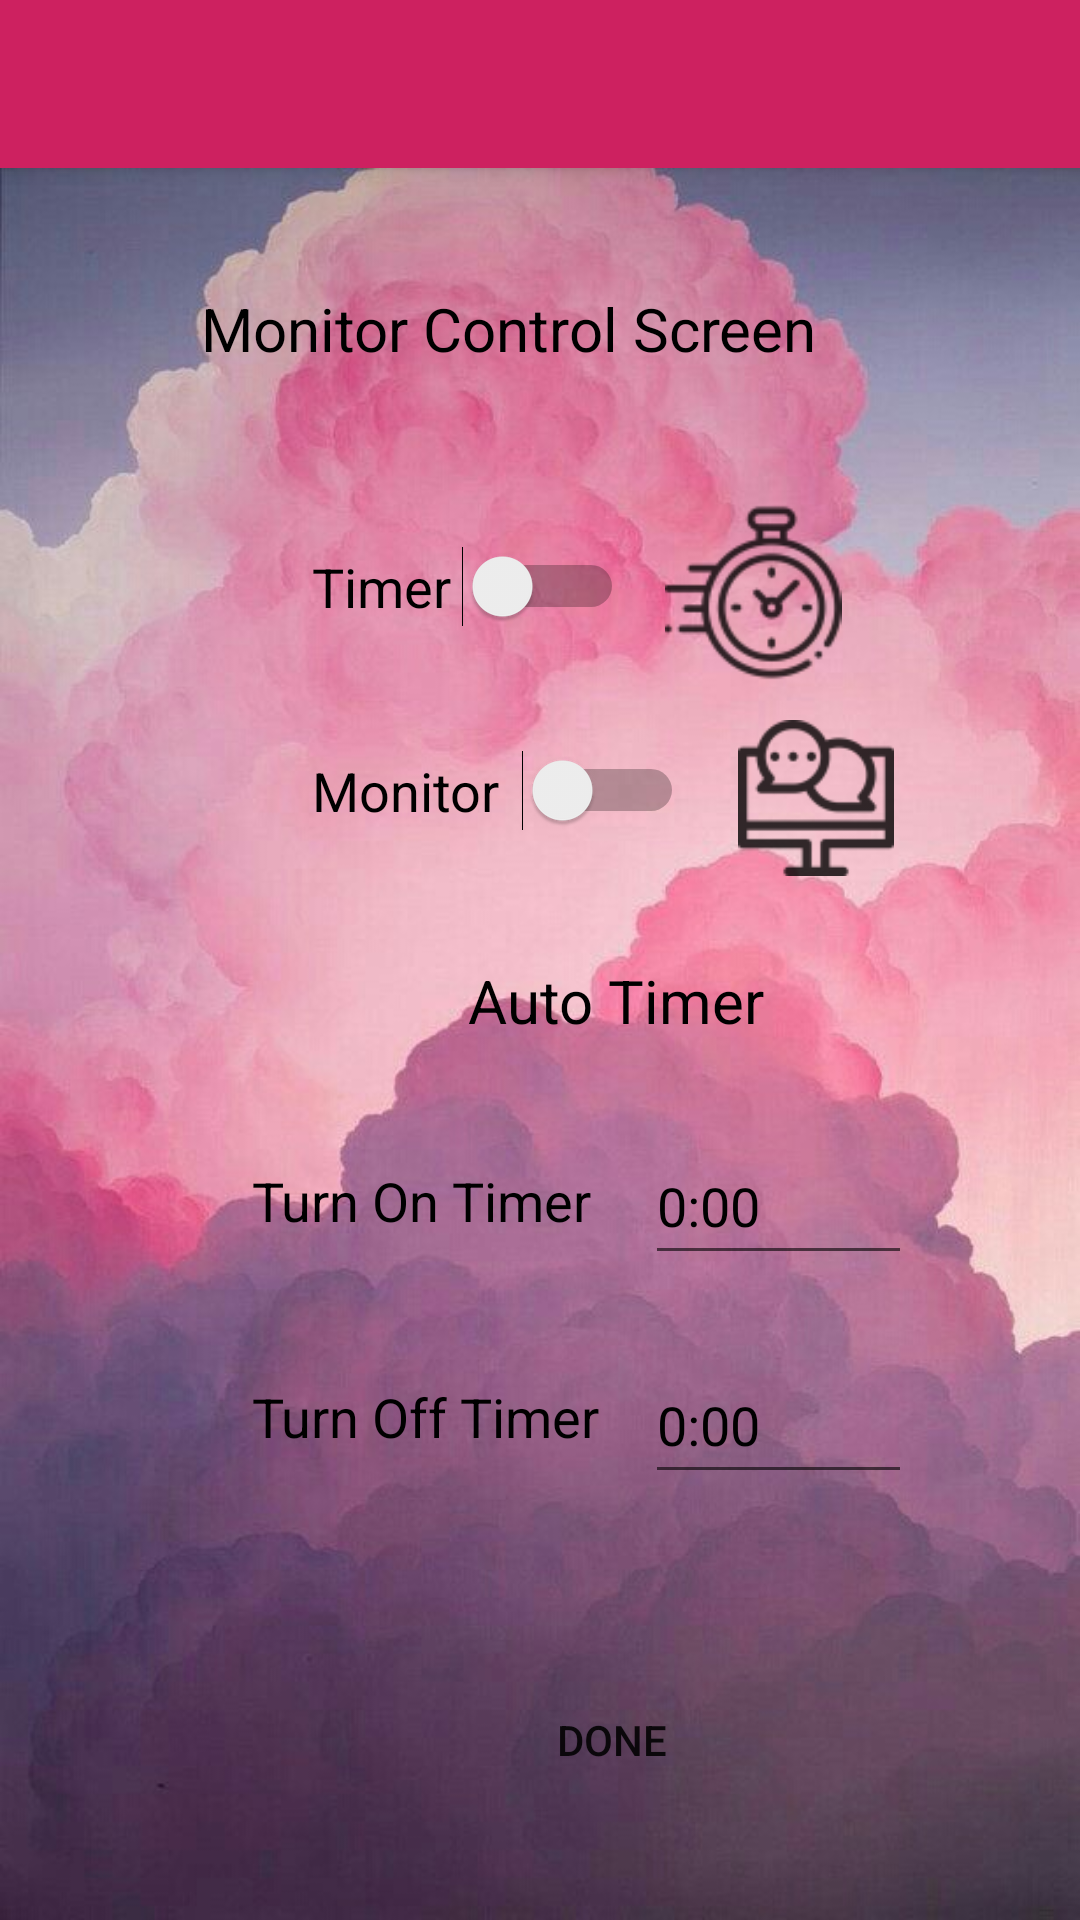

Where to tap for icons on this 1080x1920 app screen, as (x,y):
computeroff: (816,798)
timeoff: (753,592)
